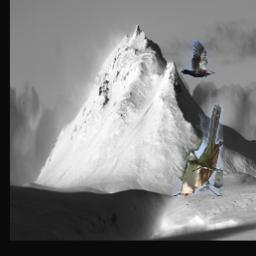Cuckoo: (174, 103, 224, 196)
Woodpecker: (180, 41, 215, 78)
